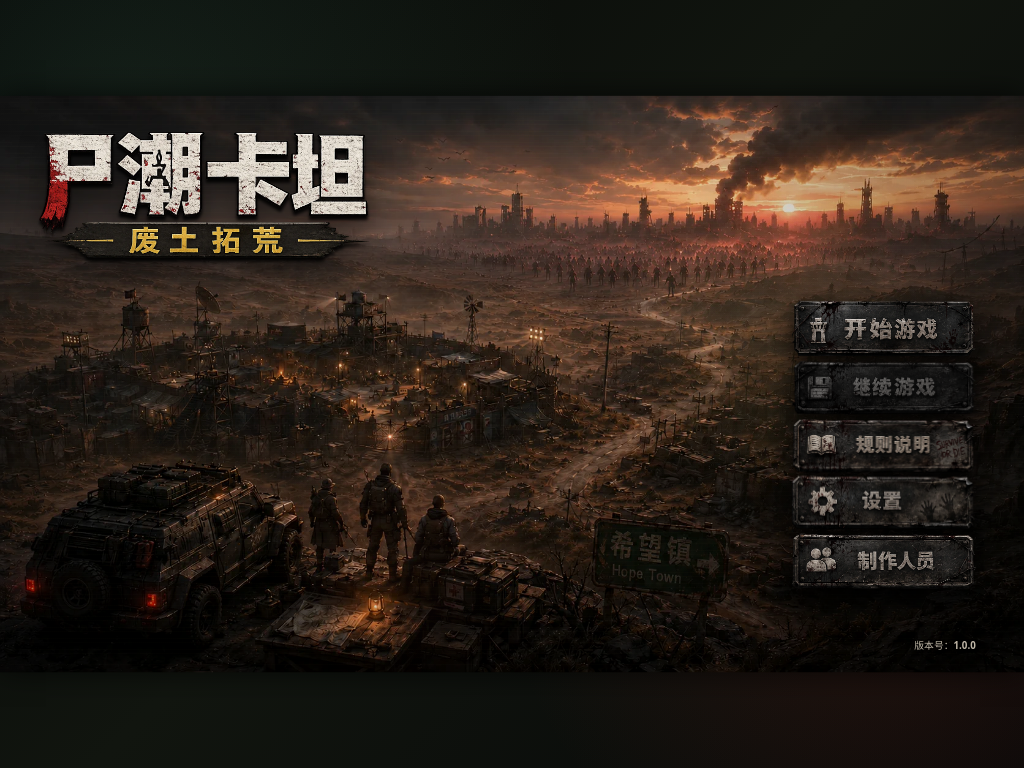
Test: StartScreen › uses volume controls in settings instead of visual effect toggles
What coordinates should you click on to do the following:
click the button named "设置"
I would click on:
 (884, 503)
Its box is [792,476,976,530].
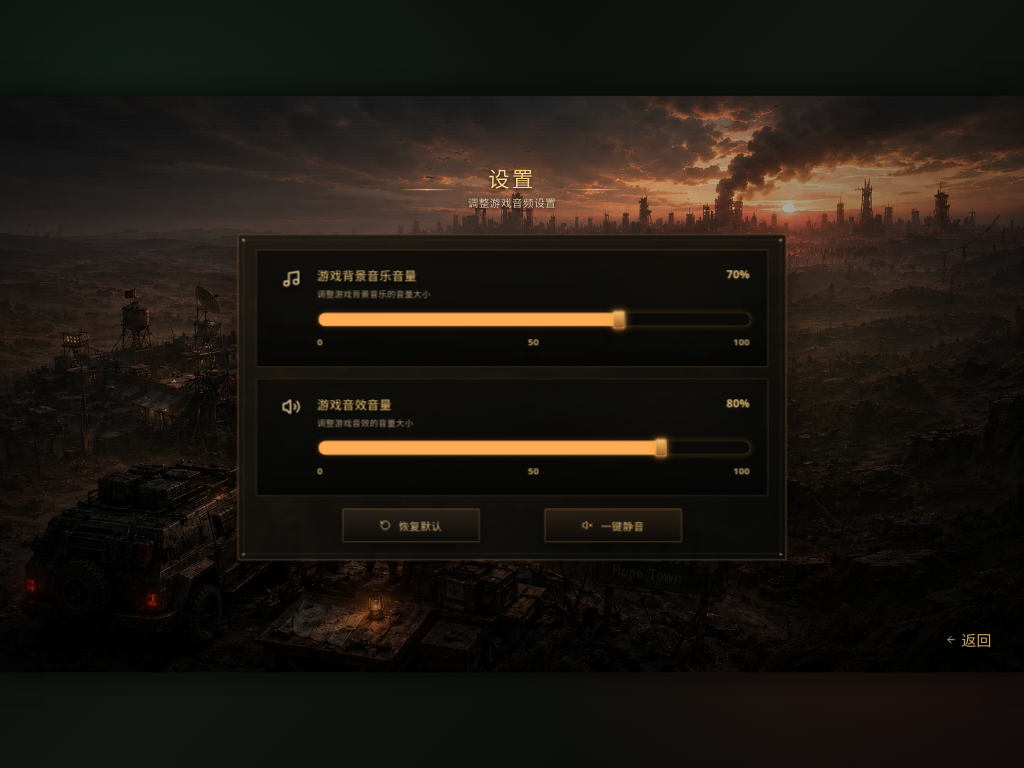
Expected: the slider labelled "游戏背景音乐音量" is shown, [318,312,751,326]
Expected: the slider labelled "游戏音效音量" is shown, [318,441,751,455]
